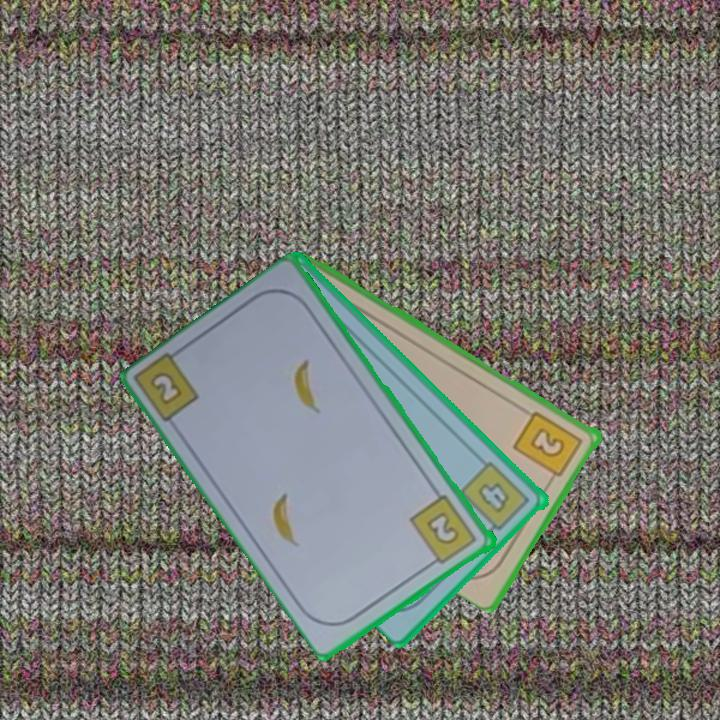2b: (510, 407, 586, 486), (407, 491, 480, 570), (150, 371, 183, 405)
4b: (457, 458, 534, 539)
